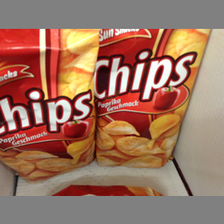chips: (98, 29, 206, 169), (1, 30, 97, 183)
